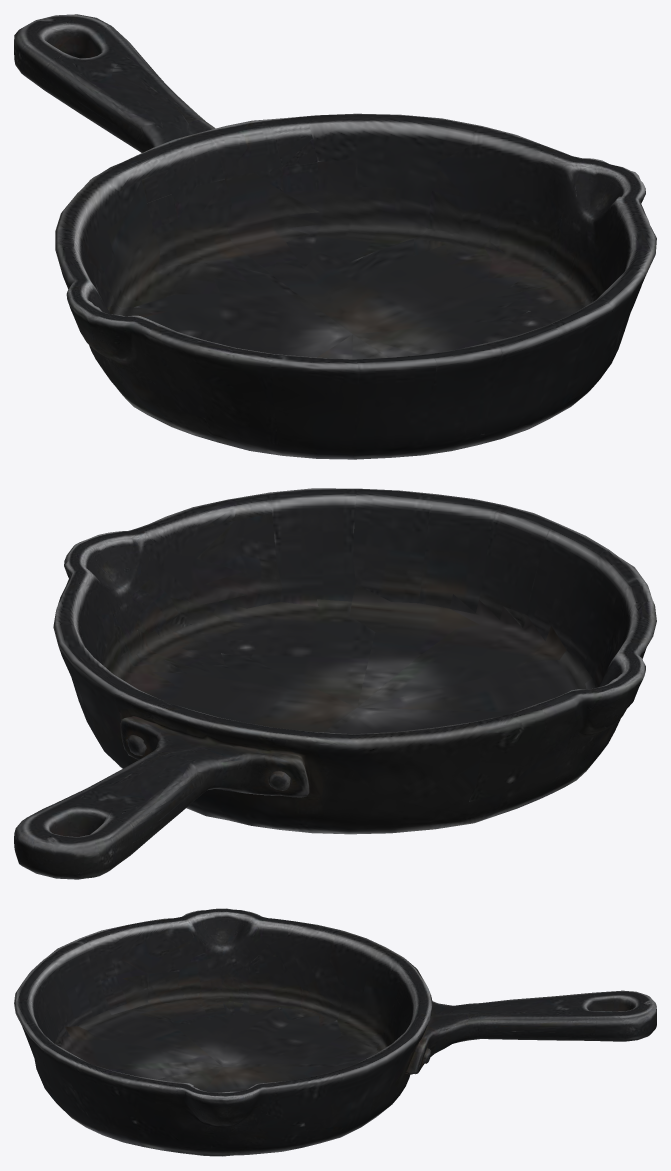
Rendered from frying_pan.glb.
The picture shows the model from 3 angles, top to bottom: view 1: azimuth 30°, elevation 25°; view 2: azimuth 150°, elevation 25°; view 3: azimuth 270°, elevation 25°; orthographic projection. The views are drawn at different scales.
Visible parts, largest first — view 1: w_frying_pan; view 2: w_frying_pan; view 3: w_frying_pan.
Boxes of the visible parts, bbox=[...] form: w_frying_pan: bbox=[14, 14, 656, 459]; w_frying_pan: bbox=[14, 488, 656, 879]; w_frying_pan: bbox=[14, 908, 656, 1156].
Bounding box in the file's own units: 0.3506 × 0.0693 × 0.5.
1 material, 1 textured.
